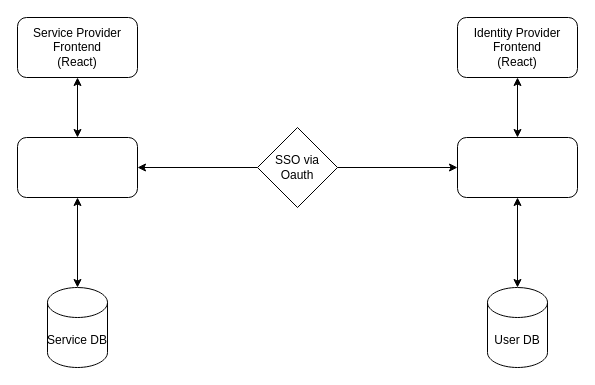
This 595x385 diagram has some shape labels left out. The centre of each missing label's shape, as x and y in pixels:
"Identity Provider Backend (Django)" goes at point 517,167.
"Service Provider Backend (Django)" goes at point 77,167.
